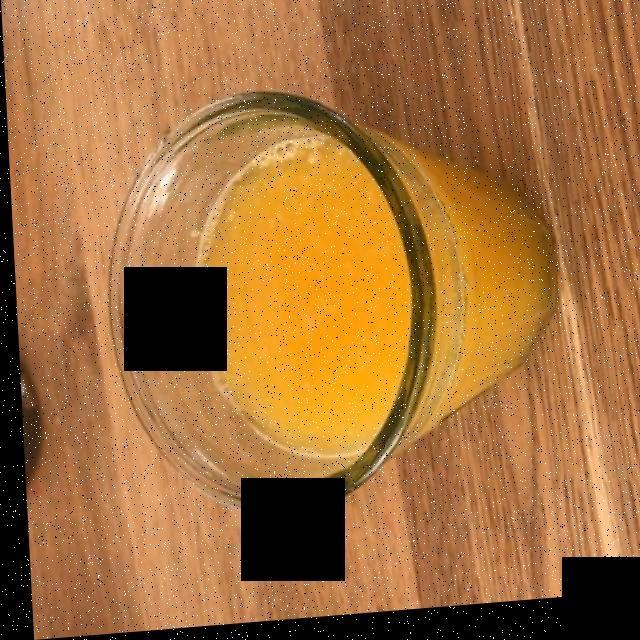juice: (193, 121, 560, 463)
